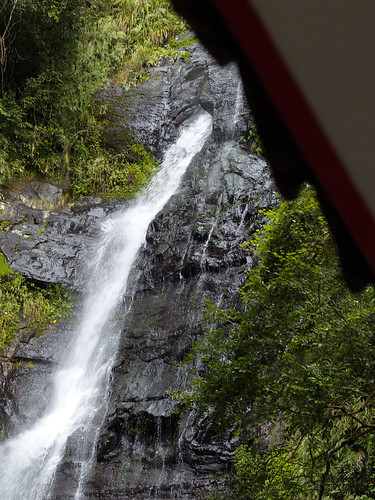wufengciWaterfall: (25, 72, 184, 488)
